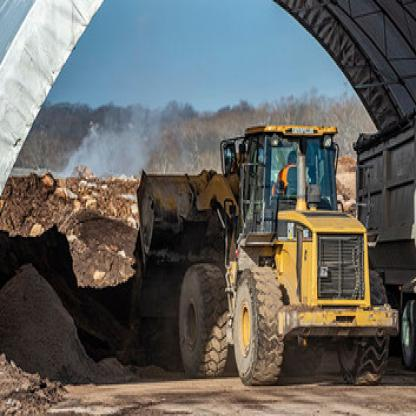bull_dozer/loader/grader: (128, 118, 400, 390)
